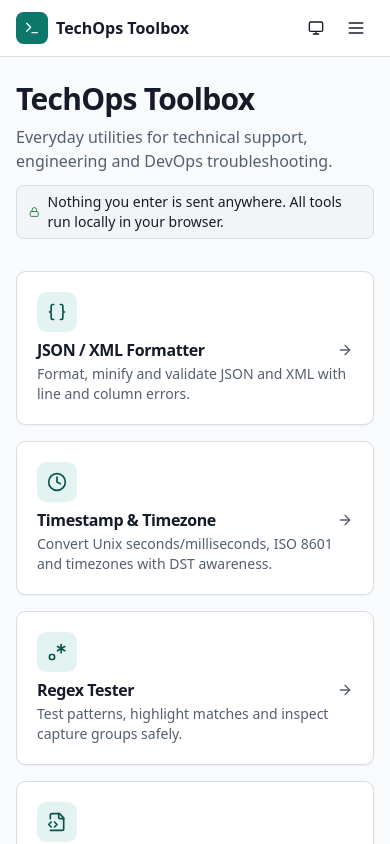
Test case: navigation › opens and closes the mobile menu
Click the button named "Open menu".
click(356, 28)  # box top-left (338, 10), bottom-right (374, 46)
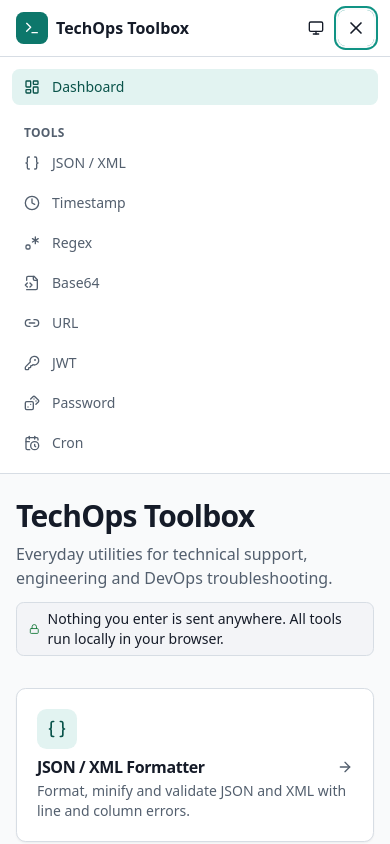
Check: the element with id "mobile-nav" is shown, box top-left (0, 57), bottom-right (389, 474)
Press Escape
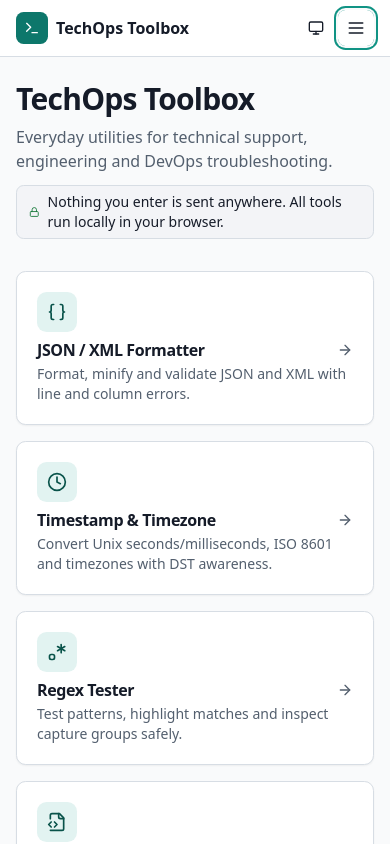
Check: the element with id "mobile-nav" is gone
